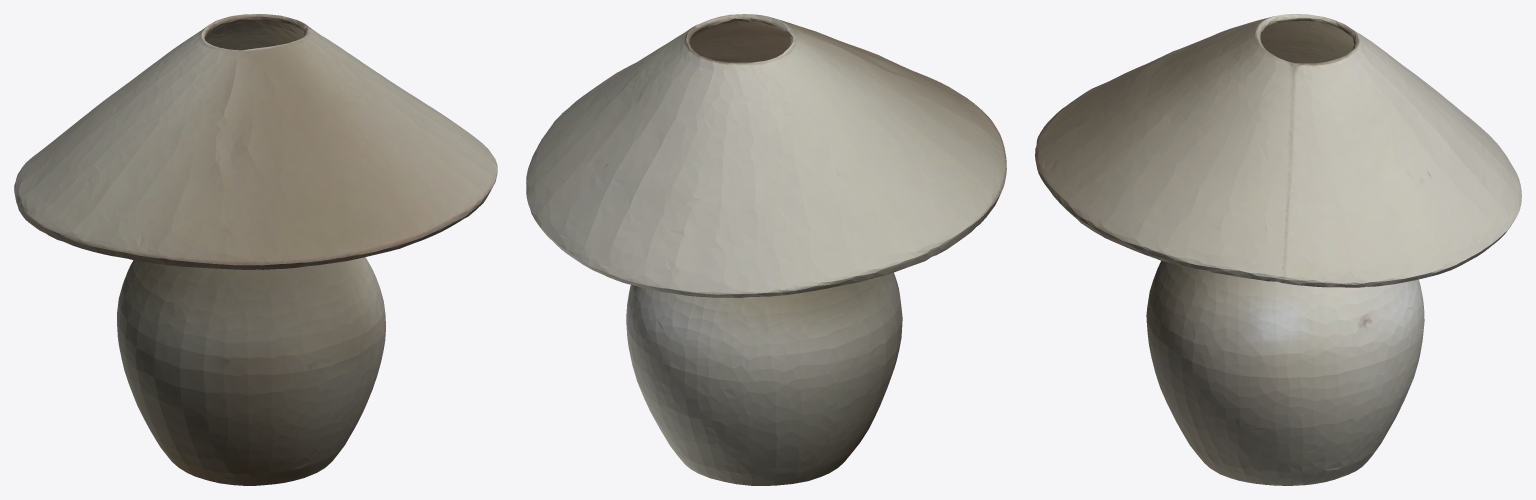
The model's file is ast_7ad385273d1f.glb.
3 views of the same model, side by side, from view 1: azimuth 30°, elevation 25°; view 2: azimuth 150°, elevation 25°; view 3: azimuth 270°, elevation 25° (orthographic). The views are drawn at different scales.
Parts seen in each view (by area): view 1: geometry_0; view 2: geometry_0; view 3: geometry_0.
Boxes of the visible parts, x1,y1,x2,y2 form: geometry_0: [14, 14, 497, 485]; geometry_0: [526, 14, 1006, 485]; geometry_0: [1035, 14, 1521, 485].
Bounding box in the file's own units: 0.6735 × 0.6357 × 0.6619.
Materials: 1 (1 with a texture image).
